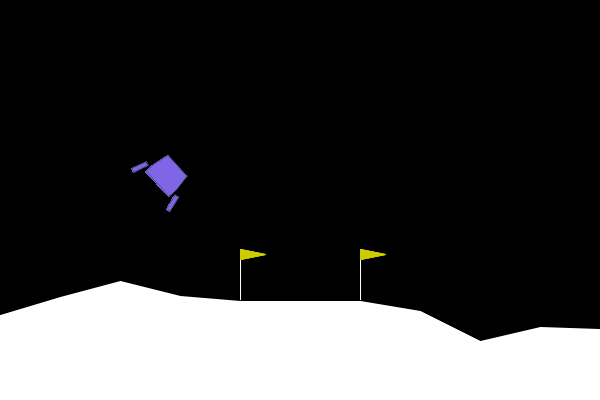lander: (129, 142, 199, 214)
